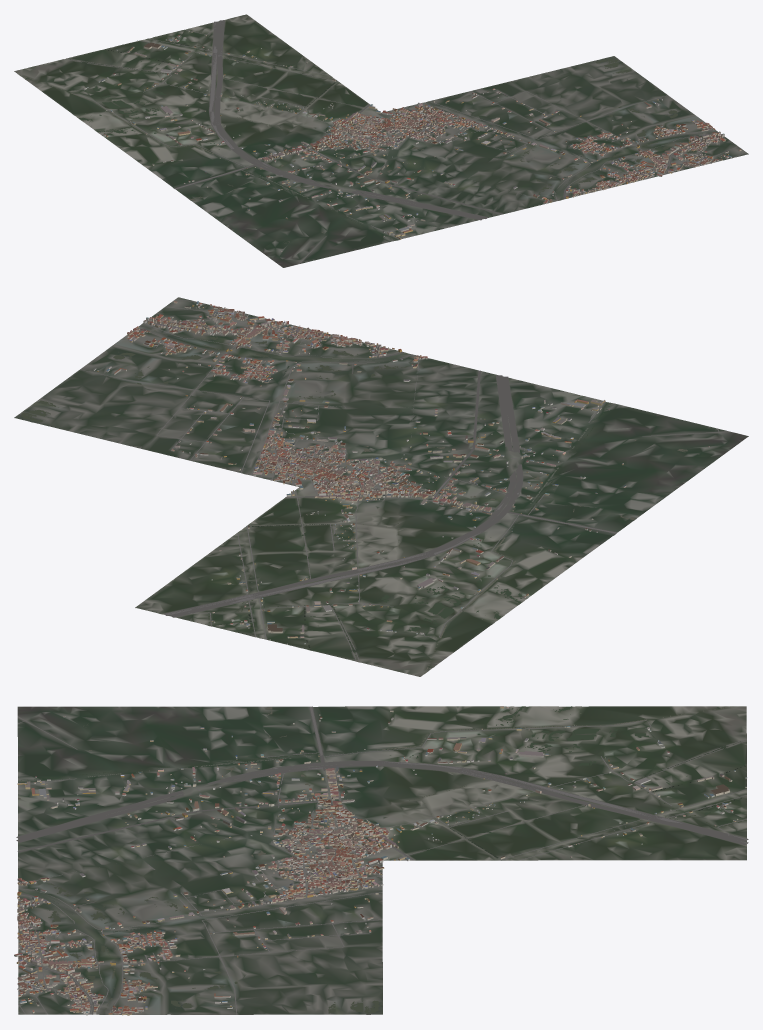
3 views of the same model, one above another, from view 1: azimuth 30°, elevation 25°; view 2: azimuth 150°, elevation 25°; view 3: azimuth 270°, elevation 25° (orthographic). The views are drawn at different scales.
Parts seen in each view (by area): view 1: ground, buildings, roads, water; view 2: ground, buildings, roads, water; view 3: ground, buildings, roads, water.
Part boxes in pixels (bbox=[...]): ground: bbox=[14, 14, 748, 267]; buildings: bbox=[83, 31, 741, 251]; roads: bbox=[63, 20, 745, 264]; water: bbox=[19, 29, 715, 243]; ground: bbox=[14, 297, 748, 676]; buildings: bbox=[93, 301, 709, 644]; roads: bbox=[80, 299, 730, 662]; water: bbox=[21, 325, 699, 672]; ground: bbox=[17, 706, 746, 1014]; buildings: bbox=[14, 706, 747, 1015]; roads: bbox=[16, 706, 748, 1014]; water: bbox=[18, 706, 746, 1013].
Size of the model in its own units: 2812 by 24.67 by 2827.
